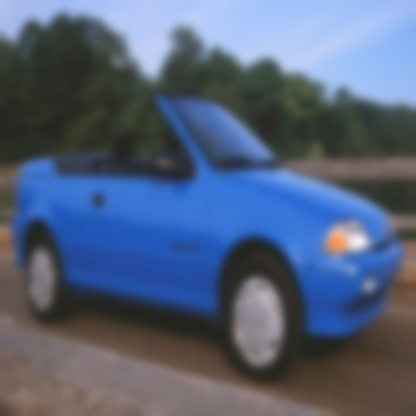Vehicle: (12, 93, 407, 386)
